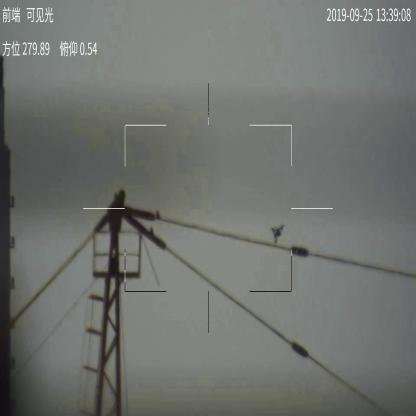uav: (270, 219, 284, 247)
